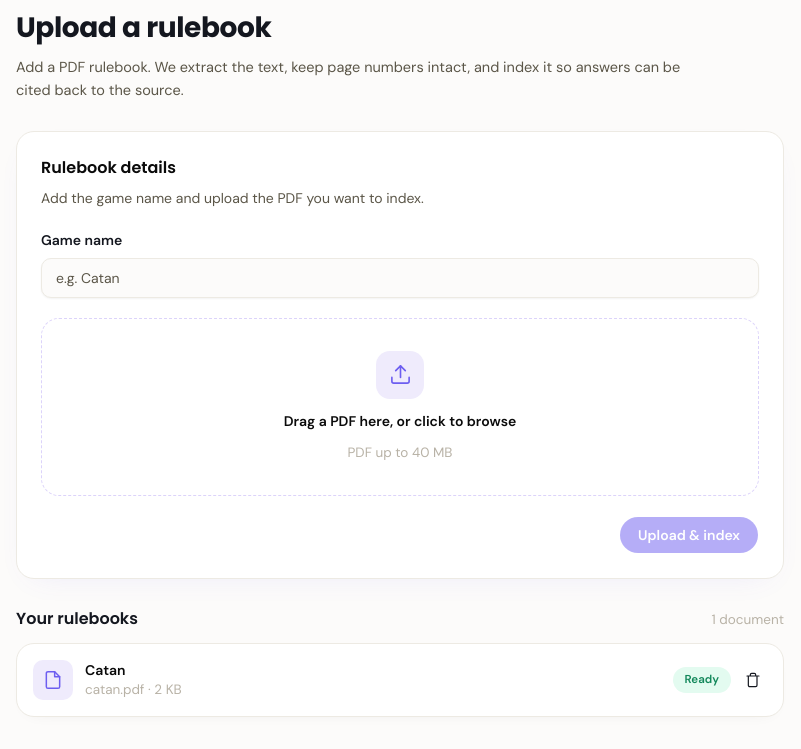
Test case: LibraryPage › loads persisted rulebooks and deletes one
(page scrolled)
expect the text "Catan" is shown: met, box [85,660,126,680]
expect the text "1 document" is shown: met, box [712,610,784,630]
Click the button named "Remove Catan": (753, 680) [739,666,767,694]
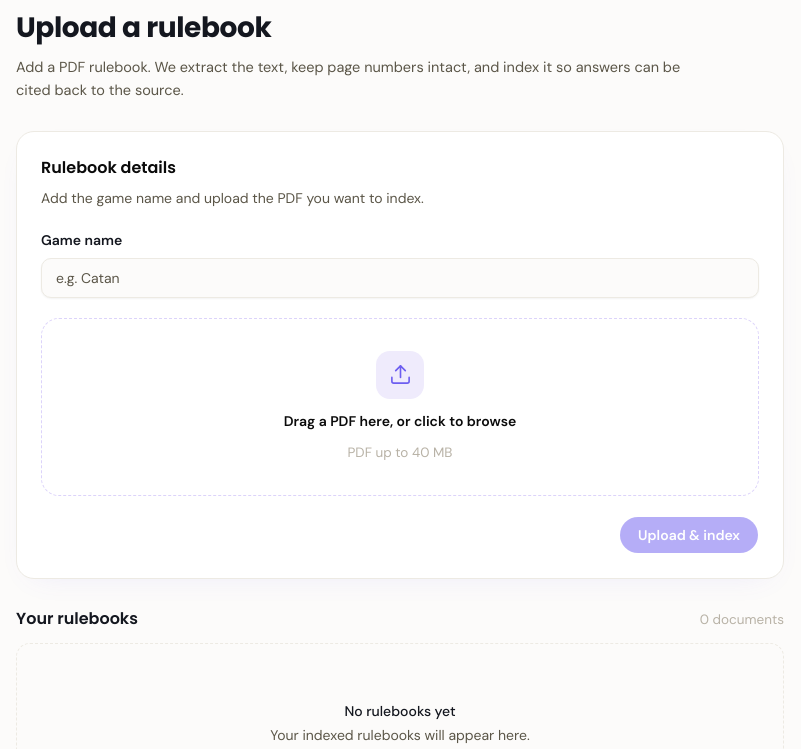
expect the text "No rulebooks yet" is shown: met, box [344,701,456,721]
